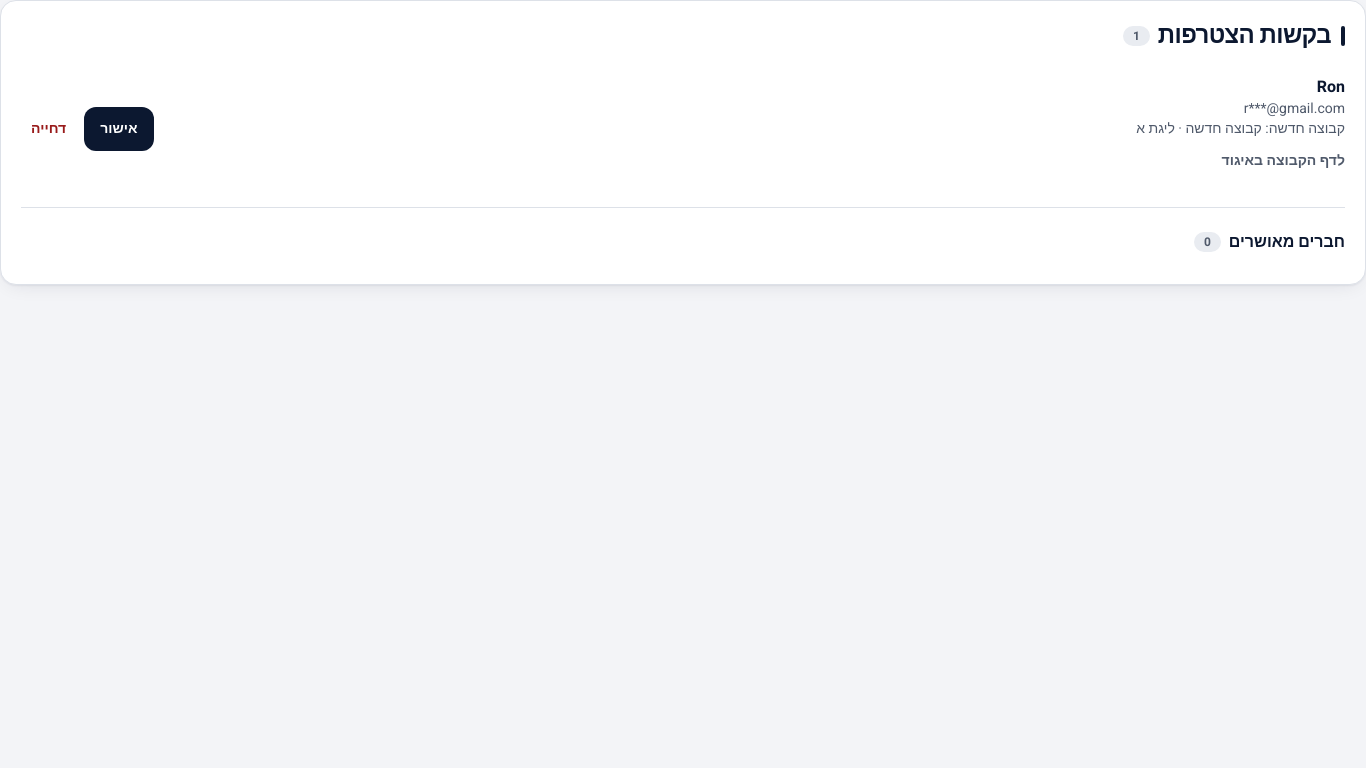
Scenario: MembershipRequests › rejecting a team request confirms, then POSTs reject
Click the button with aria-label "דחיית הבקשה של Ron". click: click(49, 129)
box: [21, 107, 76, 151]
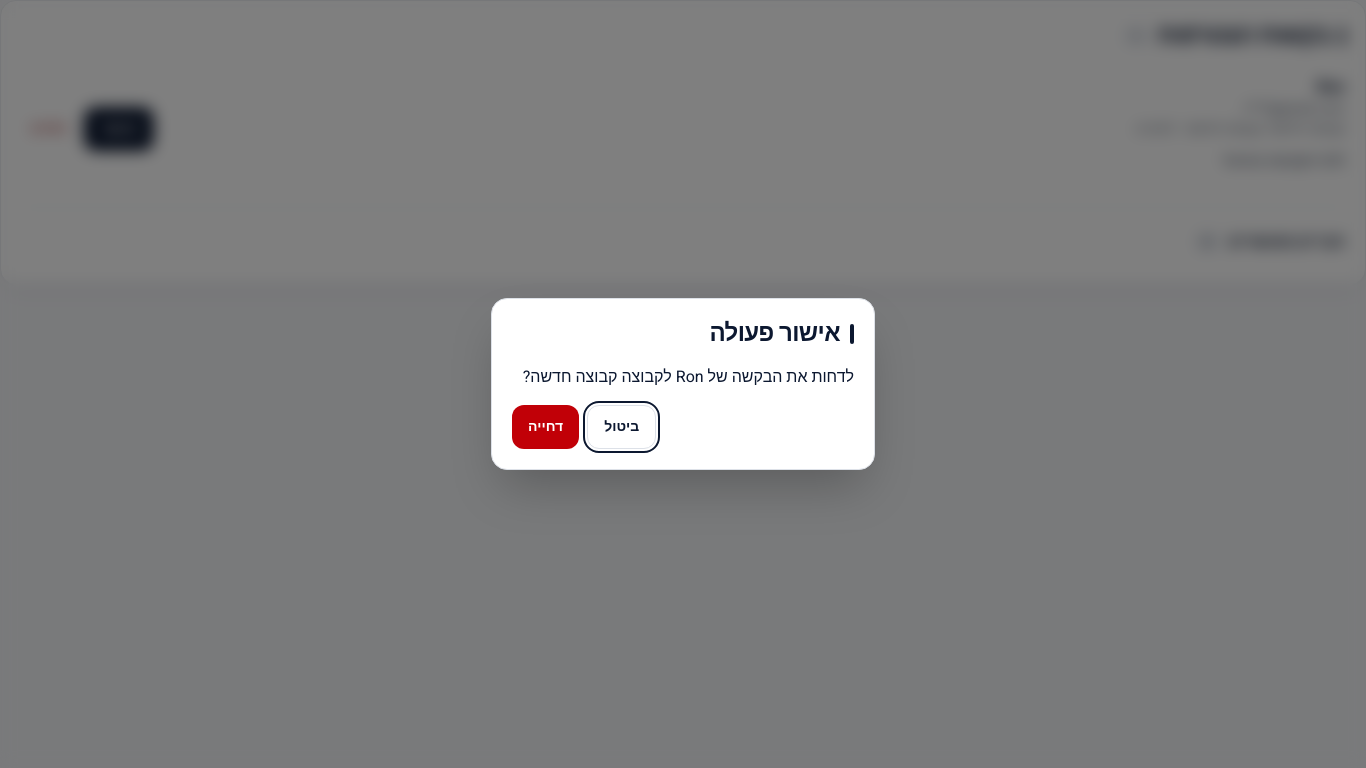
Check: the text "לדחות את הבקשה של Ron לקבוצה קבוצה חדשה?" is shown, box [512, 365, 854, 389]
Click the button with class "btn-danger". click: click(546, 427)
box: [512, 405, 579, 449]
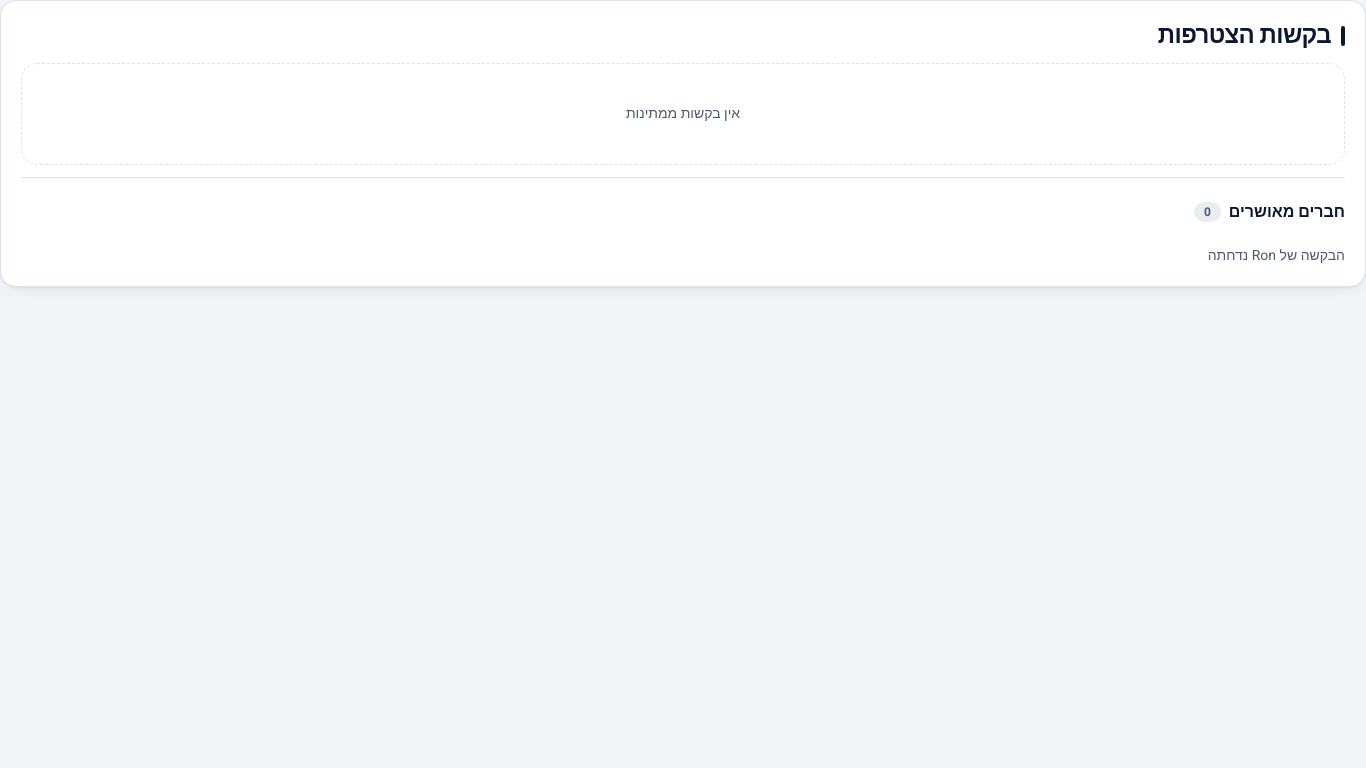
Check: the text "אין בקשות ממתינות" is shown, box [21, 63, 1345, 165]
